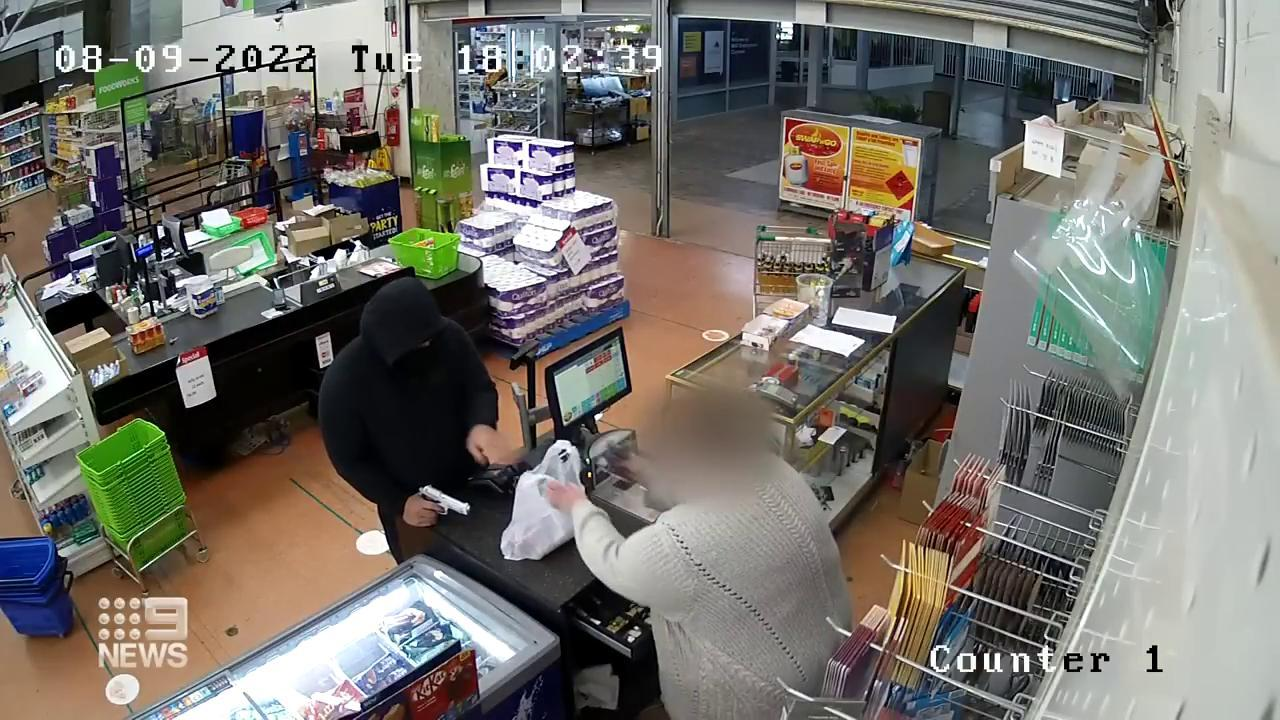gun: (419, 483, 472, 527)
